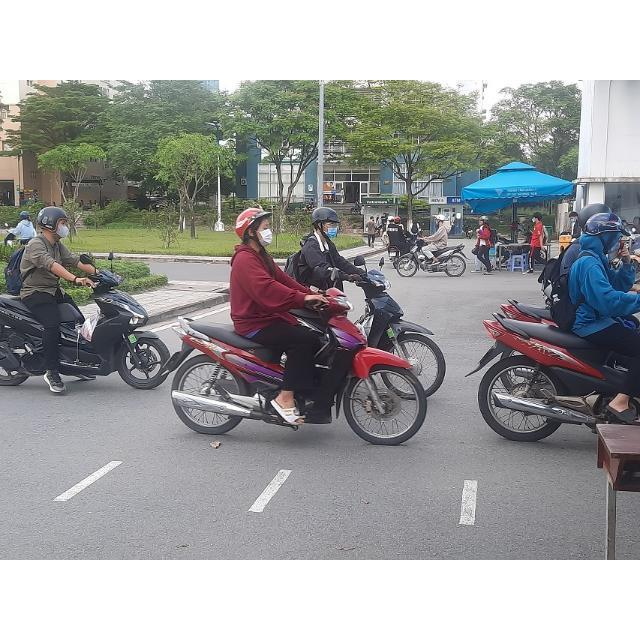Helmet: (583, 212, 625, 252), (236, 210, 274, 247), (38, 206, 72, 242), (311, 206, 341, 242)
